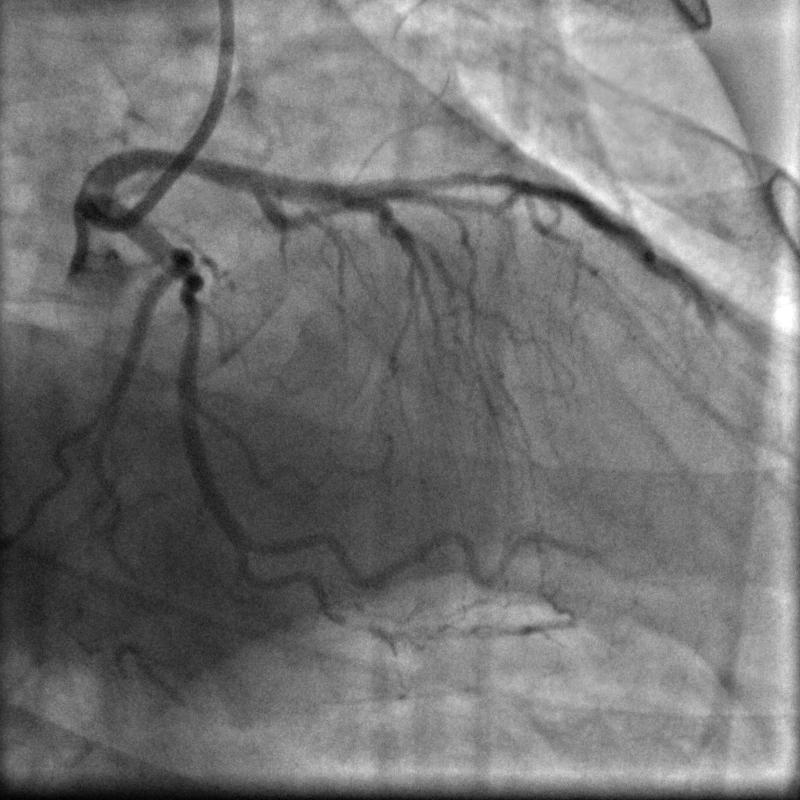Stenosis: (172, 259, 205, 324)
